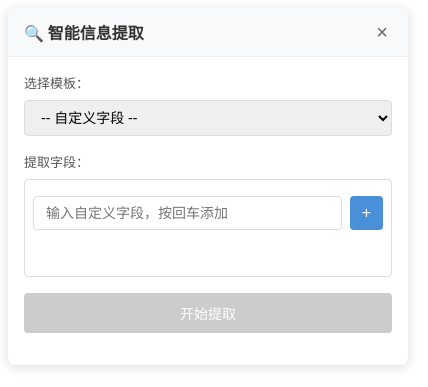
Test case: SmartExtractPanel › Field Management › should add custom field when clicking add button
Type "测试字段" into the field with id "custom-field-input" at (187, 213), box [33, 196, 342, 230]
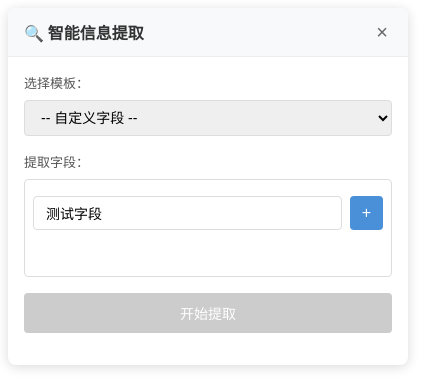
Click the button with id "add-field-btn" at (366, 213), box [350, 196, 383, 230]
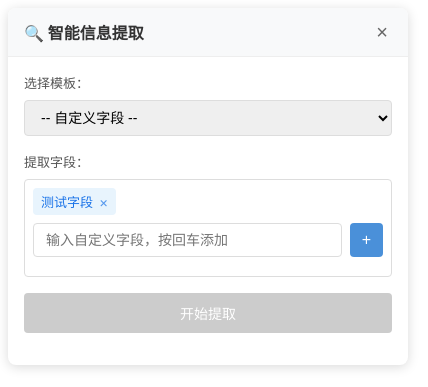
Expected: the number of elements with class "field-tag" is 1, [33, 188, 116, 215]
Expected: the element with class "field-tag" shows "测试字段", [41, 194, 93, 210]
